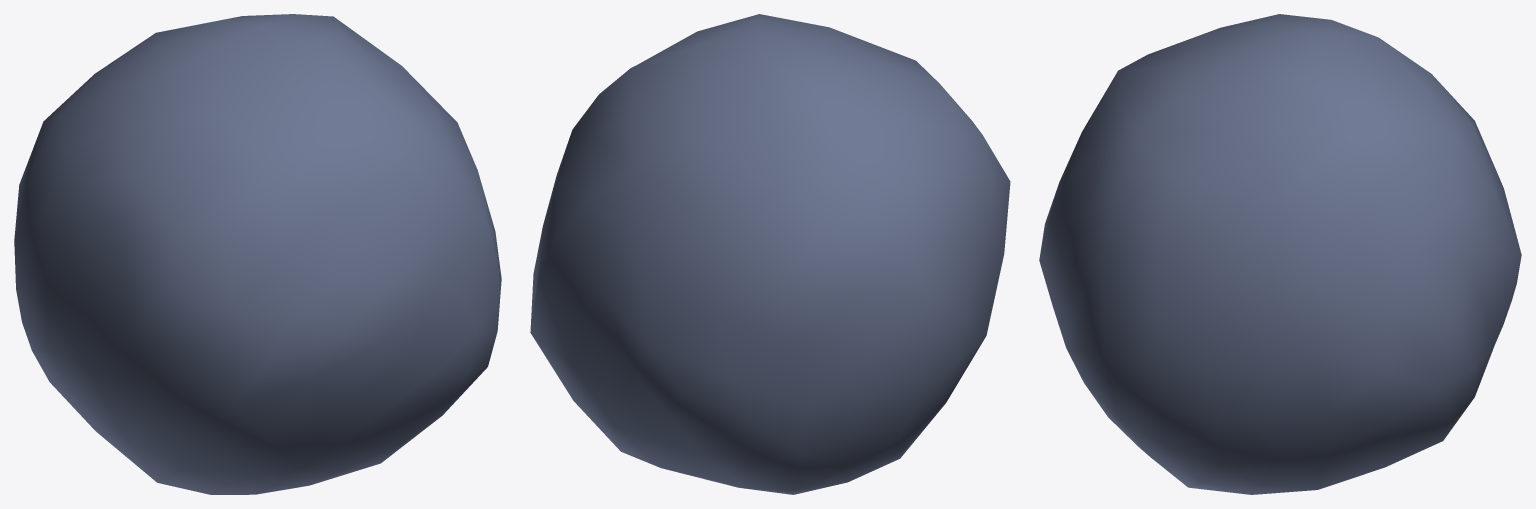
Rendered from SnowBall_Prefab.fbx.
3 views of the same model, side by side, from view 1: azimuth 30°, elevation 25°; view 2: azimuth 150°, elevation 25°; view 3: azimuth 270°, elevation 25° (orthographic).
Parts seen in each view (by area): view 1: Body_LOD0; view 2: Body_LOD0; view 3: Body_LOD0.
Part boxes in pixels (x1,y1,x2,y2): Body_LOD0: (14, 14, 501, 494); Body_LOD0: (530, 14, 1010, 494); Body_LOD0: (1039, 14, 1521, 494).
Size of what is drawn, in the model's own units: 9.29 by 9.77 by 9.62.
